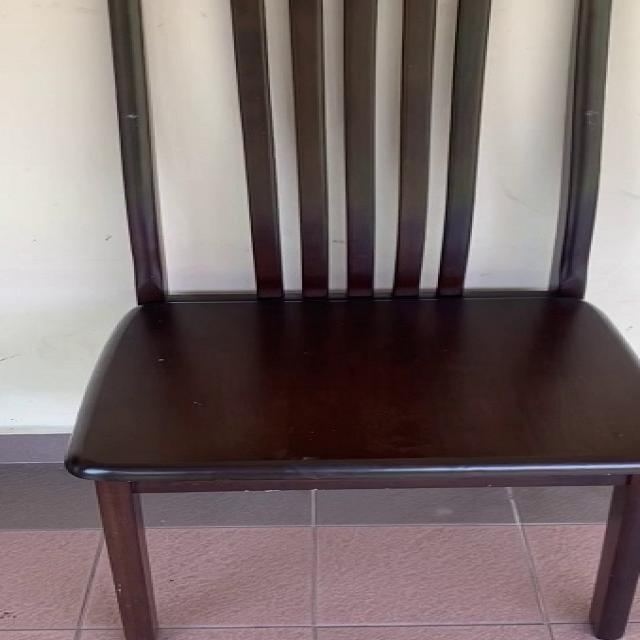chair: (66, 5, 640, 640)
